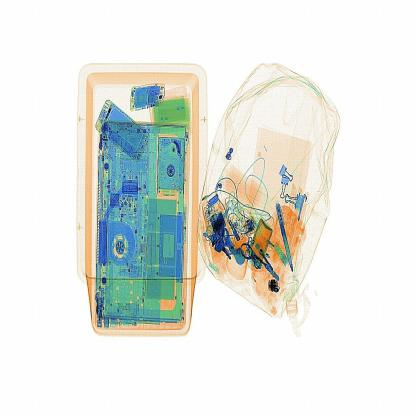scissors: (266, 278, 284, 297)
